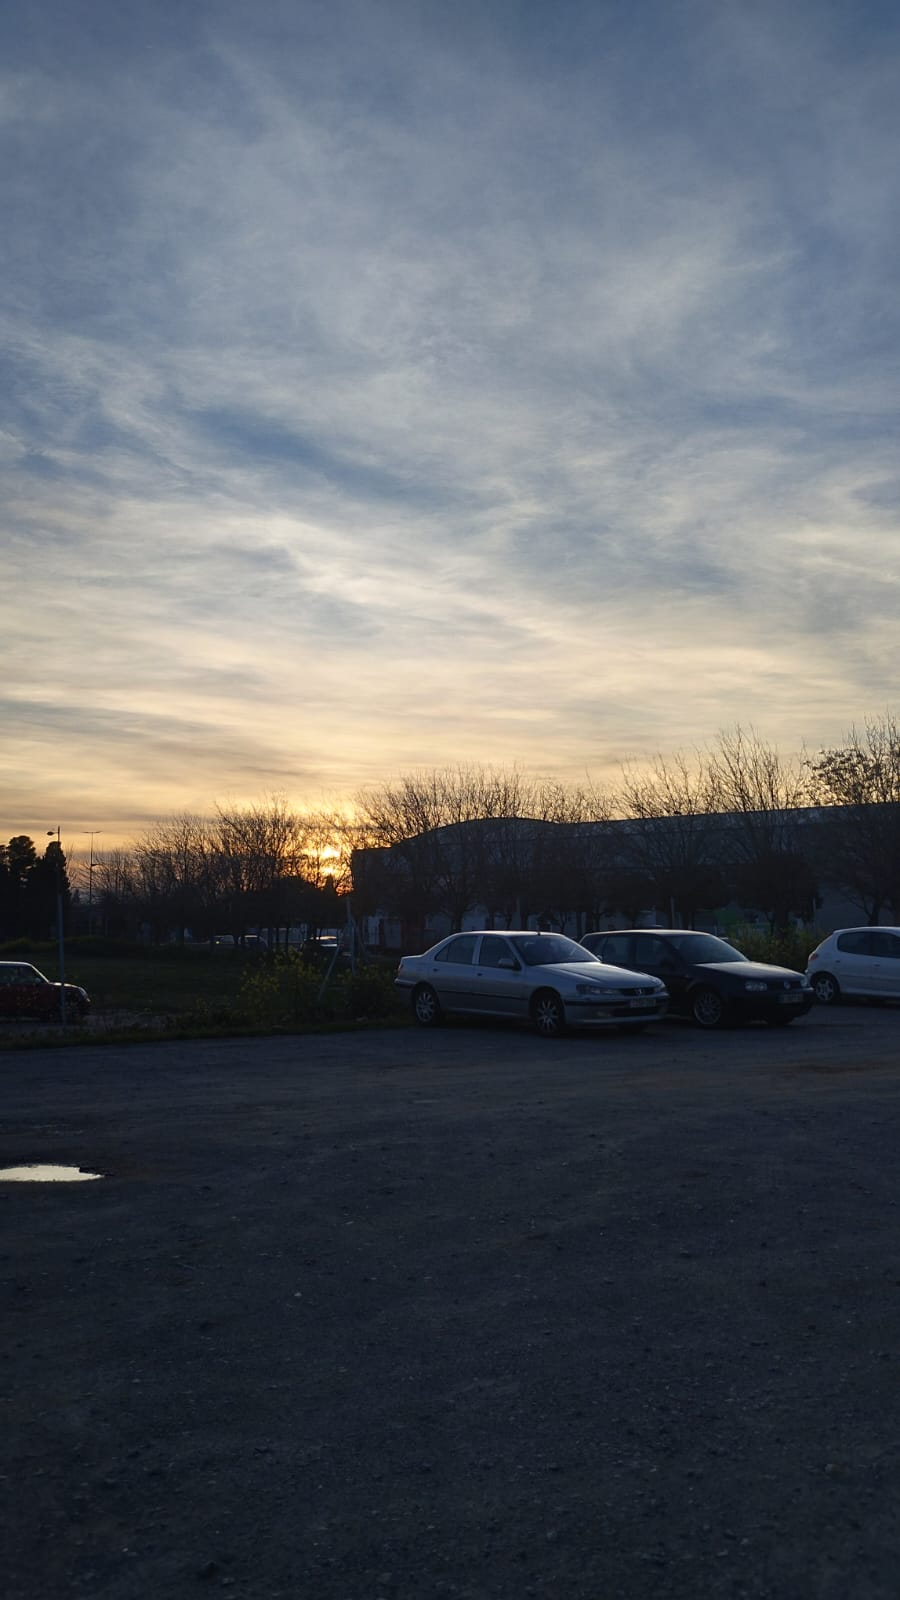car: (383, 922, 664, 1048), (555, 901, 804, 1039), (801, 906, 894, 1025), (8, 950, 92, 1050)
